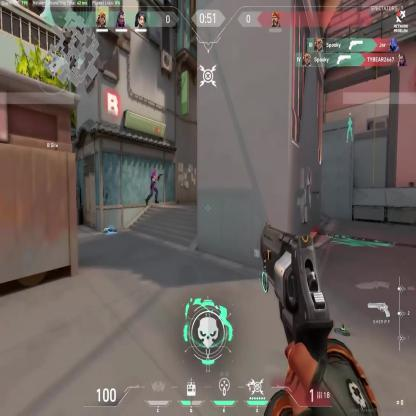enemy: (144, 167, 160, 205)
enemy_head: (154, 168, 156, 174)
